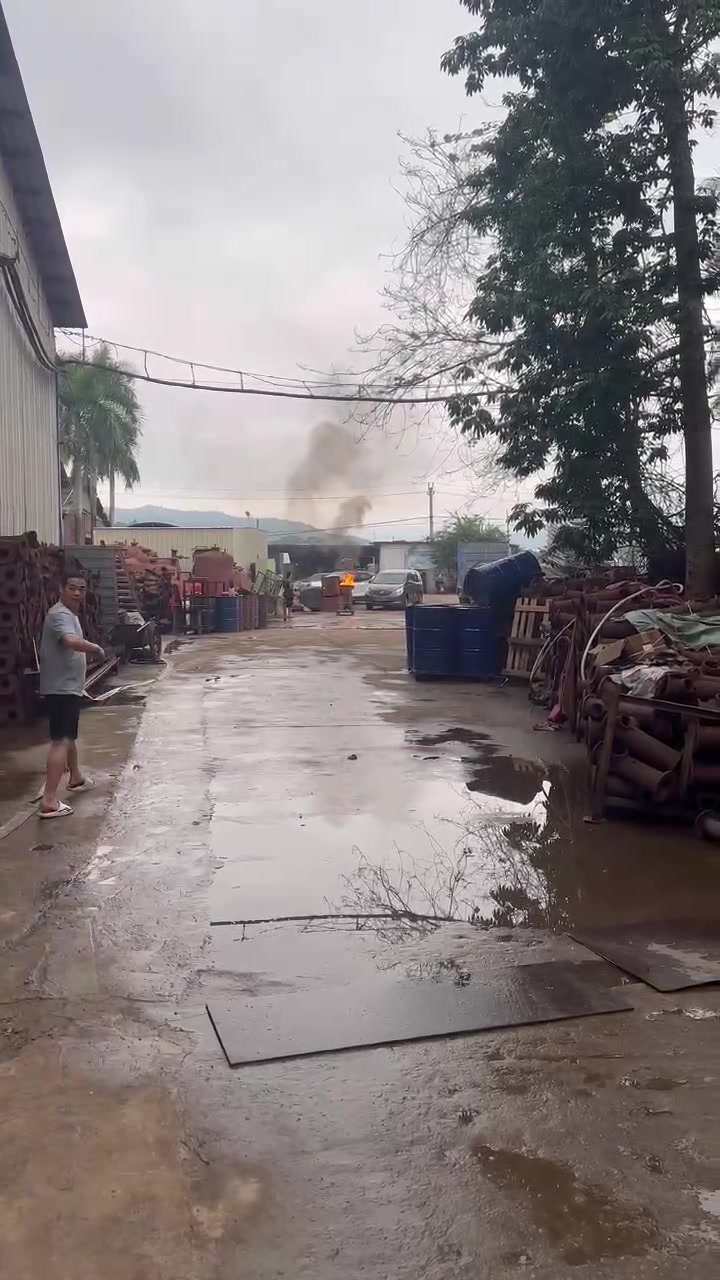fire: (340, 572, 355, 585)
